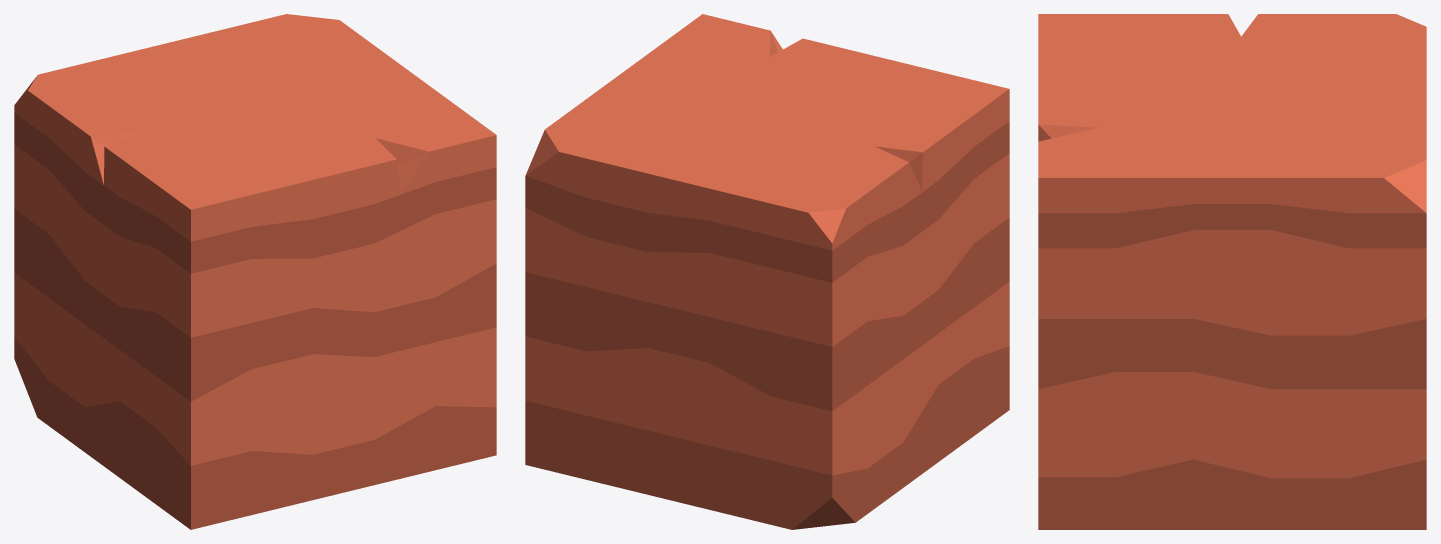
File: Stone006.fbx
3 renders of one model, left to right at view 1: azimuth 30°, elevation 25°; view 2: azimuth 150°, elevation 25°; view 3: azimuth 270°, elevation 25°, orthographic. The views are drawn at different scales.
Parts seen in each view (by area): view 1: Stone006; view 2: Stone006; view 3: Stone006.
Part boxes in pixels (box(x1,y1,x2,y2)): Stone006: box(14, 14, 496, 529); Stone006: box(525, 14, 1009, 529); Stone006: box(1038, 14, 1426, 529).
Size of the model in its own units: 156 by 156 by 156.
